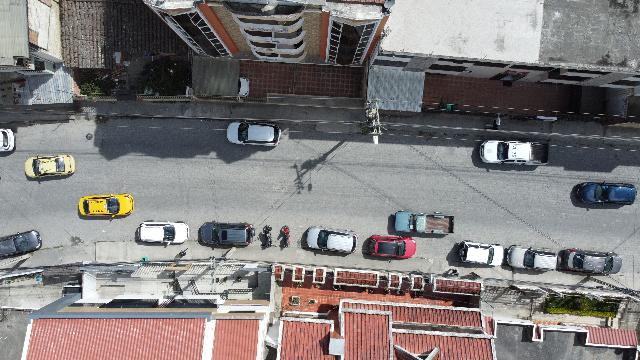Vehiculo: (479, 140, 549, 166), (394, 209, 454, 236), (507, 244, 561, 272), (564, 247, 622, 273), (575, 182, 637, 206), (306, 226, 358, 254), (78, 193, 134, 219), (198, 222, 255, 246), (136, 221, 188, 247), (226, 122, 280, 146), (362, 235, 416, 259), (458, 240, 506, 266), (25, 154, 75, 178), (1, 230, 42, 258), (1, 128, 16, 152)
